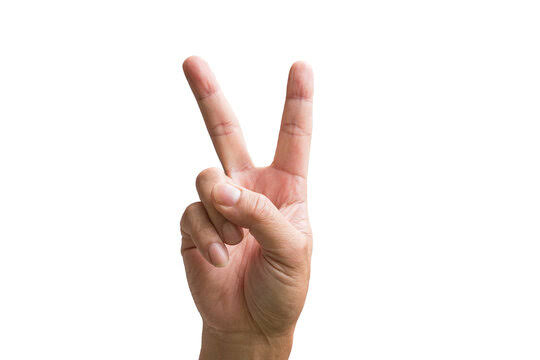peace_sign: (166, 40, 333, 334)
